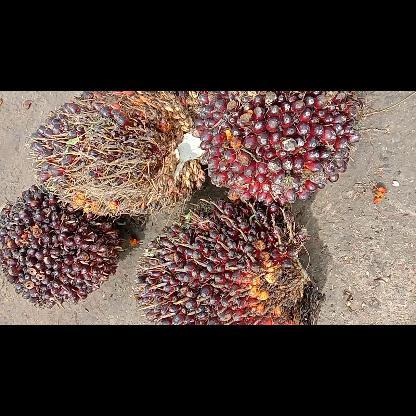Kurang masak: (132, 198, 324, 324), (28, 91, 206, 217), (191, 90, 361, 206), (0, 184, 126, 308)
